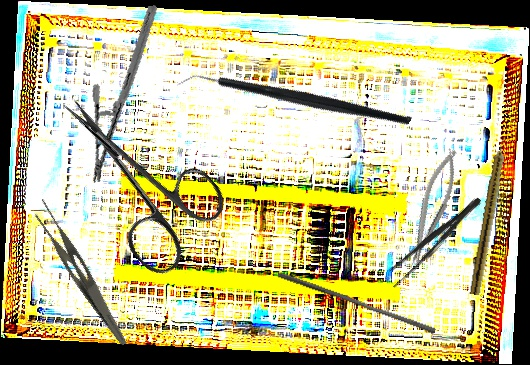Chopper: (176, 2, 413, 201)
Dressing Forceps: (23, 197, 143, 347), (382, 191, 487, 291)
Handpiece: (469, 135, 511, 297)
Iris Scissors: (26, 65, 239, 283)
Needle Holder: (61, 4, 188, 184), (397, 145, 467, 273)
Pusher: (275, 271, 438, 335)
